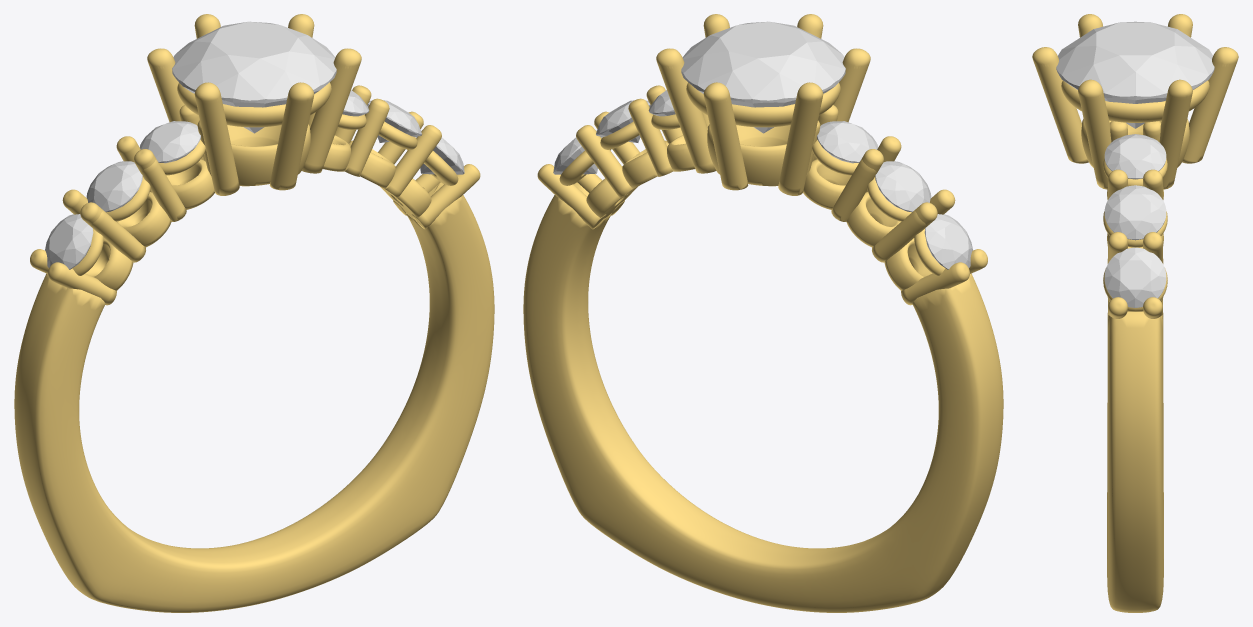
The model's file is diamond-round-yellowgold-6prong-europeanshank-3stone.glb.
3 renders of one model, left to right at view 1: azimuth 30°, elevation 25°; view 2: azimuth 150°, elevation 25°; view 3: azimuth 270°, elevation 25°, orthographic. The views are drawn at different scales.
Parts seen in each view (by area): view 1: metal, stone, side, side.001, side.002, side.004, side.005; view 2: metal, stone, side, side.001, side.002, side.004, side.005; view 3: metal, stone, side.005, side.004, side.003.
Part boxes in pixels (x1,y1,x2,y2): metal: (14, 14, 494, 612); stone: (172, 21, 336, 133); side: (86, 161, 142, 212); side.001: (45, 214, 93, 269); side.002: (140, 121, 200, 163); side.004: (367, 100, 421, 142); side.005: (416, 130, 464, 174); metal: (523, 14, 1003, 612); stone: (681, 21, 845, 133); side: (875, 161, 931, 212); side.001: (924, 214, 972, 269); side.002: (817, 121, 877, 163); side.004: (596, 100, 650, 142); side.005: (553, 130, 601, 174); metal: (1032, 14, 1238, 612); stone: (1056, 21, 1214, 128); side.005: (1104, 247, 1166, 307); side.004: (1104, 185, 1166, 240); side.003: (1104, 134, 1166, 179).
Bounding box in the file's own units: 20.71 × 23.81 × 8.33.
